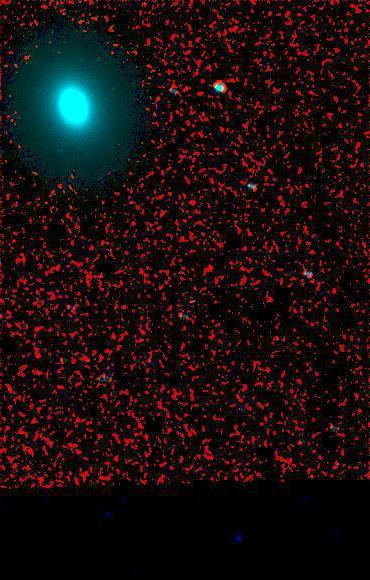star: (74, 345, 104, 375)
